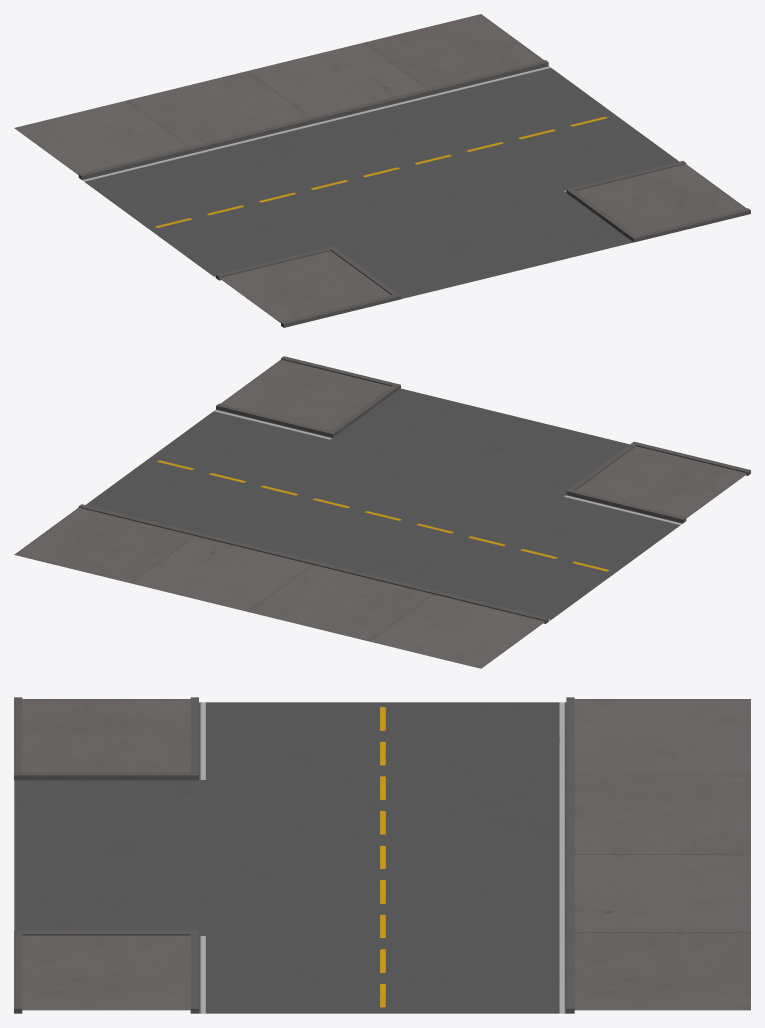
File: SM_Floor_Road_09.fbx
3 views of the same model, one above another, from view 1: azimuth 30°, elevation 25°; view 2: azimuth 150°, elevation 25°; view 3: azimuth 270°, elevation 25° (orthographic). The views are drawn at different scales.
Visible parts, largest first — view 1: SM_Floor_Road_09; view 2: SM_Floor_Road_09; view 3: SM_Floor_Road_09.
Part boxes in pixels (bbox=[...]): SM_Floor_Road_09: bbox=[14, 14, 750, 327]; SM_Floor_Road_09: bbox=[14, 356, 750, 668]; SM_Floor_Road_09: bbox=[14, 697, 750, 1013].
Bounding box in the file's own units: 10 × 0.075 × 10.01.
